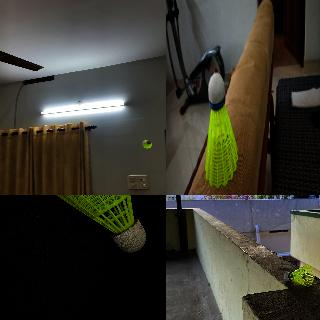shuttlecock: (50, 195, 146, 254), (205, 72, 237, 188), (284, 264, 312, 286), (142, 140, 152, 148)
